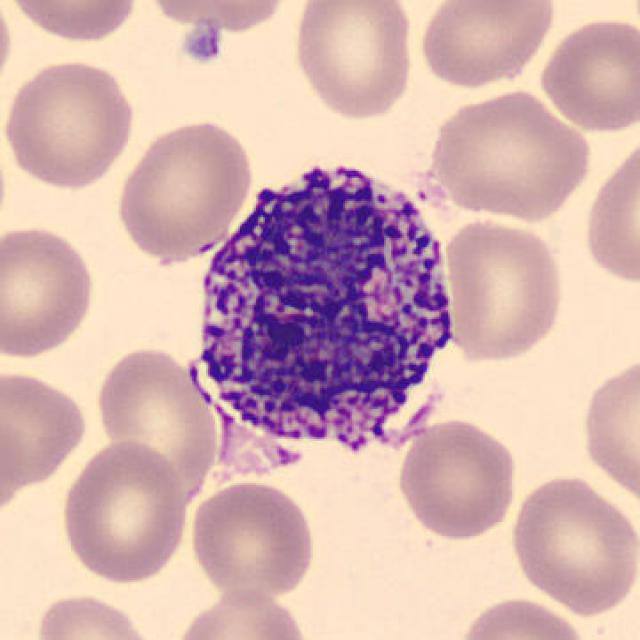Basophil: (176, 145, 473, 478)
Platelets: (180, 18, 226, 65)
RBC: (423, 86, 596, 224), (112, 114, 256, 264), (91, 340, 224, 501), (57, 436, 190, 587), (505, 471, 638, 617), (441, 215, 567, 367), (0, 54, 139, 190), (185, 476, 320, 603), (395, 414, 521, 543), (288, 0, 418, 123), (0, 222, 100, 363), (414, 0, 560, 92), (535, 12, 638, 136), (0, 365, 91, 490), (576, 351, 640, 509), (580, 130, 638, 291), (169, 585, 313, 640), (30, 589, 160, 640), (2, 0, 140, 46), (454, 594, 590, 640), (149, 0, 295, 33), (0, 395, 32, 525), (167, 11, 237, 58), (0, 2, 16, 104)
